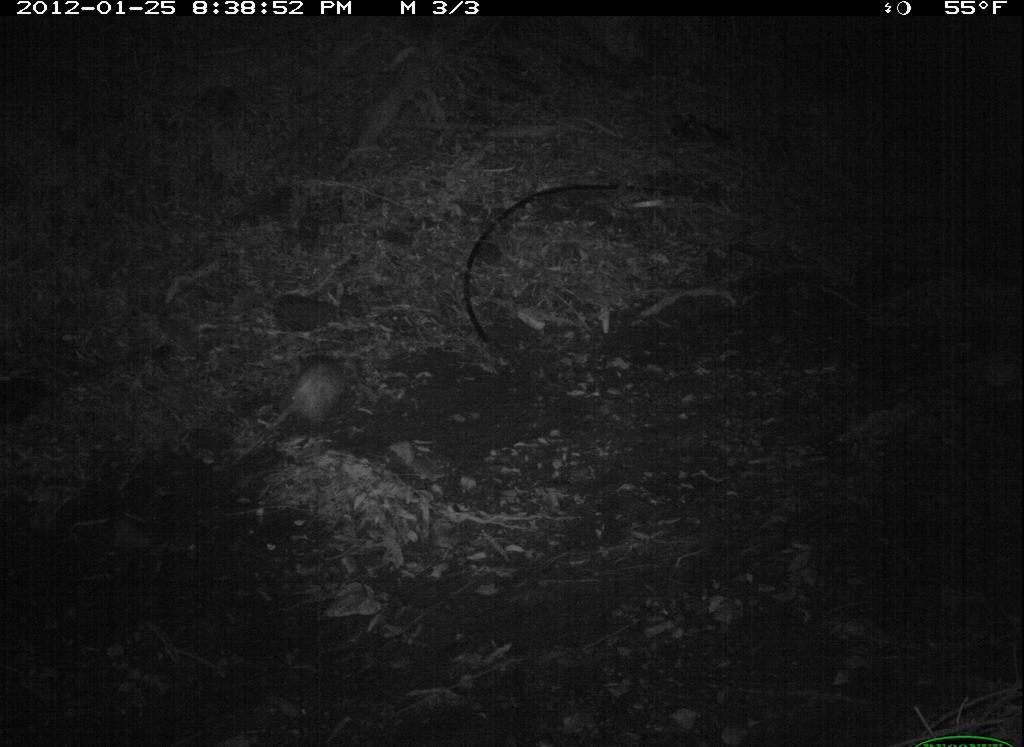opossum: (239, 337, 374, 455)
